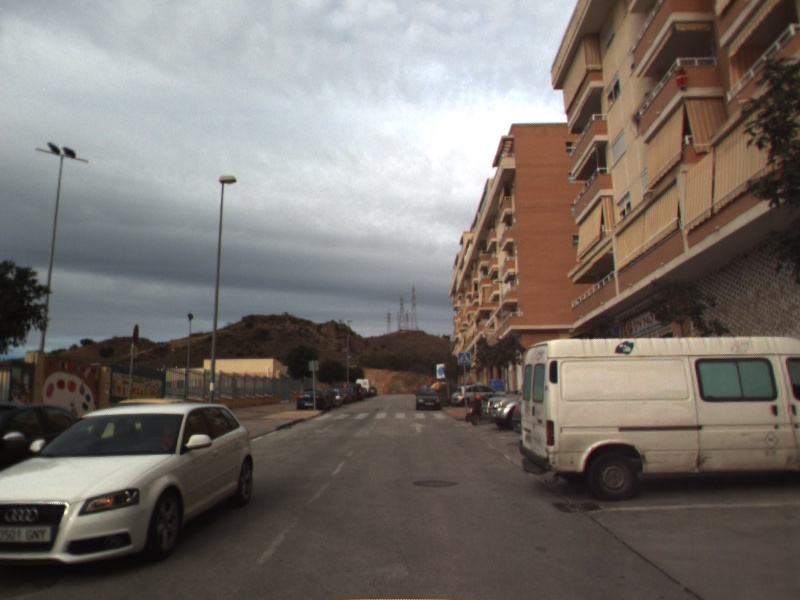STRAIGHT: (407, 420, 429, 434)
